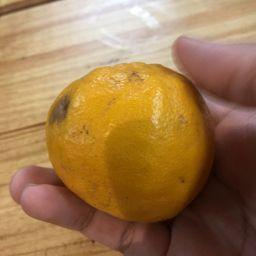Unripe: (45, 63, 217, 219)
